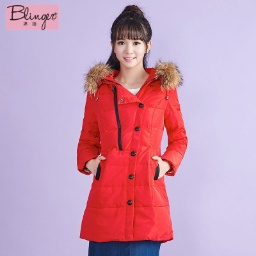face: (109, 5, 152, 70)
